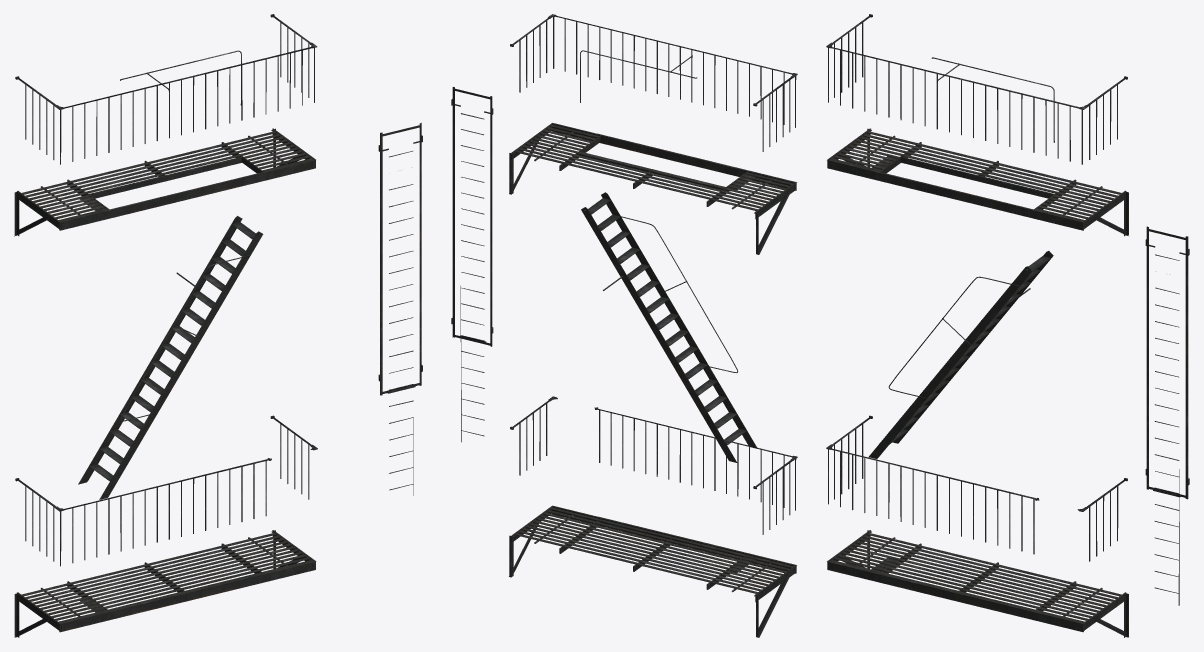
The model's file is modular_fire_escape.glb.
3 renders of one model, left to right at view 1: azimuth 30°, elevation 25°; view 2: azimuth 150°, elevation 25°; view 3: azimuth 330°, elevation 25°, orthographic. The views are drawn at different scales.
Parts seen in each view (by area): view 1: modular_fire_escape_platform_bottom, modular_fire_escape_platform_middle, modular_fire_escape_stairs, modular_fire_escape_railing_middle, modular_fire_escape_railing_bottom, modular_fire_escape_ladder_bottom; view 2: modular_fire_escape_platform_bottom, modular_fire_escape_platform_middle, modular_fire_escape_stairs, modular_fire_escape_railing_middle, modular_fire_escape_railing_bottom, modular_fire_escape_ladder_bottom; view 3: modular_fire_escape_platform_bottom, modular_fire_escape_platform_middle, modular_fire_escape_stairs, modular_fire_escape_railing_middle, modular_fire_escape_railing_bottom, modular_fire_escape_ladder_bottom.
Boxes of the visible parts, <box> form: modular_fire_escape_platform_bottom: <box>14,530,316,637</box>; modular_fire_escape_platform_middle: <box>14,128,315,236</box>; modular_fire_escape_stairs: <box>78,216,263,499</box>; modular_fire_escape_railing_middle: <box>15,14,317,164</box>; modular_fire_escape_railing_bottom: <box>15,415,317,566</box>; modular_fire_escape_ladder_bottom: <box>378,122,422,495</box>; modular_fire_escape_platform_bottom: <box>509,505,796,637</box>; modular_fire_escape_platform_middle: <box>509,123,796,254</box>; modular_fire_escape_stairs: <box>581,192,757,462</box>; modular_fire_escape_railing_middle: <box>510,14,797,151</box>; modular_fire_escape_railing_bottom: <box>510,396,797,534</box>; modular_fire_escape_ladder_bottom: <box>451,87,493,442</box>; modular_fire_escape_platform_bottom: <box>827,530,1128,637</box>; modular_fire_escape_platform_middle: <box>827,128,1128,236</box>; modular_fire_escape_stairs: <box>868,251,1053,458</box>; modular_fire_escape_railing_middle: <box>826,14,1127,164</box>; modular_fire_escape_railing_bottom: <box>826,415,1127,561</box>; modular_fire_escape_ladder_bottom: <box>1145,226,1189,605</box>.
Size of the model in its own units: 6.66 by 9.76 by 1.42.
2 materials, 2 textured.
